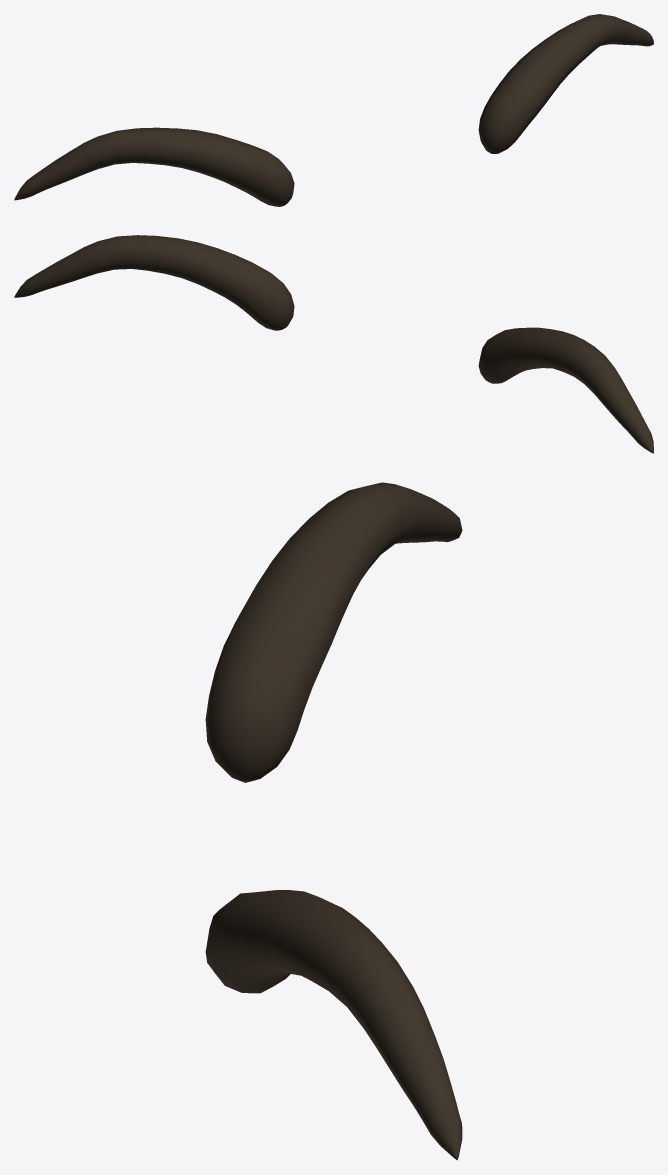
The model's file is eyebrow1.fbx.
3 views of the same model, one above another, from view 1: azimuth 30°, elevation 25°; view 2: azimuth 150°, elevation 25°; view 3: azimuth 270°, elevation 25° (orthographic). The views are drawn at different scales.
Visible parts, largest first — view 1: Group1, EYEBROW1:Group3921; view 2: EYEBROW1:Group3921, Group1; view 3: Group1, EYEBROW1:Group3921.
Boxes of the visible parts, bbox=[...] form: Group1: bbox=[14, 127, 294, 206]; EYEBROW1:Group3921: bbox=[478, 14, 653, 153]; EYEBROW1:Group3921: bbox=[14, 235, 294, 330]; Group1: bbox=[478, 327, 653, 453]; Group1: bbox=[205, 482, 462, 782]; EYEBROW1:Group3921: bbox=[205, 890, 462, 1160].
Size of the model in its own units: 0.5905 by 0.0741 by 0.1026.
